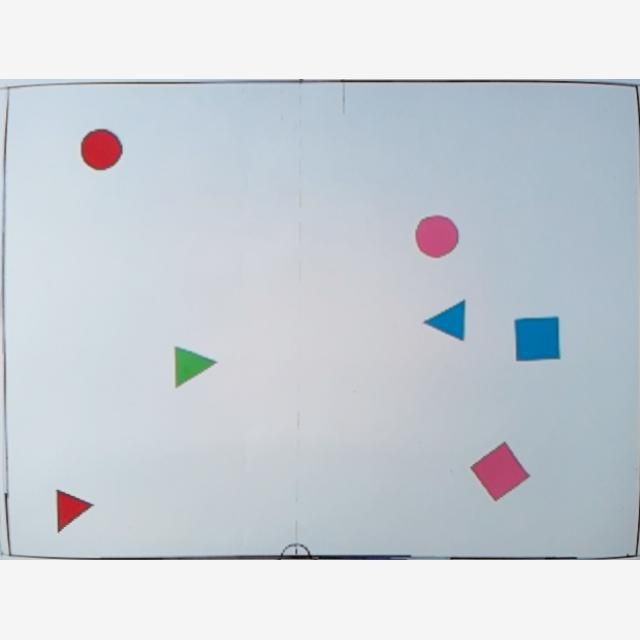blueSquare: (512, 316, 562, 364)
blueTriangle: (423, 301, 467, 344)
greenTriangle: (174, 344, 218, 391)
pinkCircle: (416, 218, 458, 260)
pinkSquare: (470, 444, 530, 504)
redCircle: (80, 130, 124, 172)
redTriangle: (50, 487, 96, 535)
